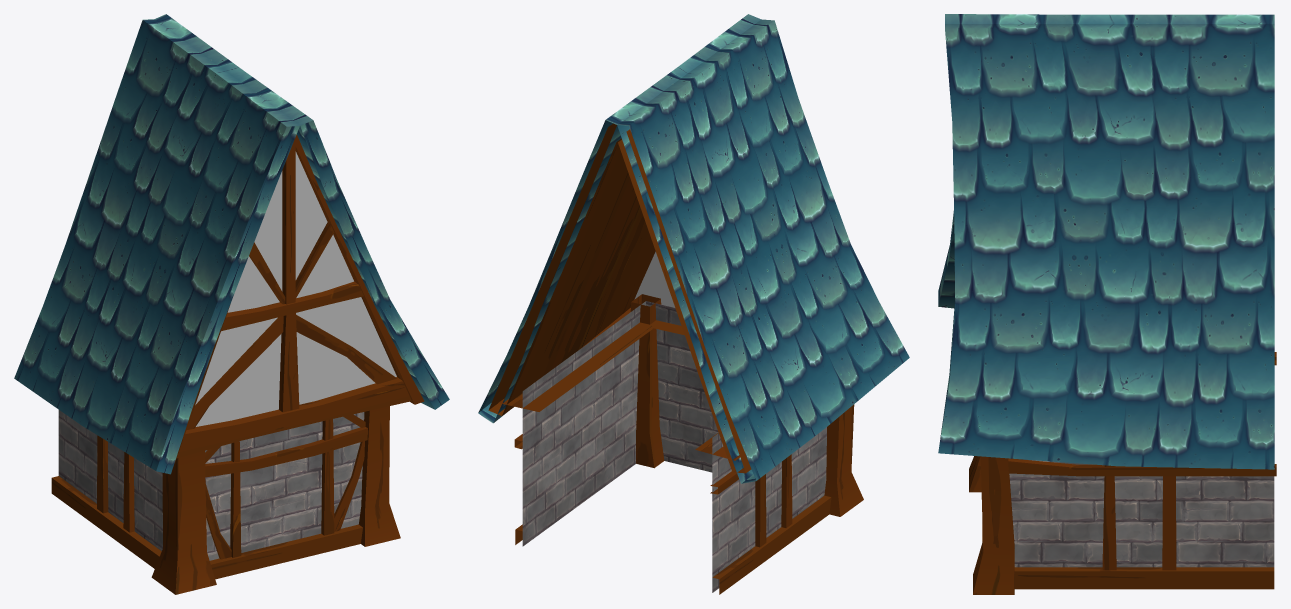
File: SM_BLD_body_add_v03_01.fbx
The picture shows the model from 3 angles, left to right: view 1: azimuth 30°, elevation 25°; view 2: azimuth 150°, elevation 25°; view 3: azimuth 270°, elevation 25°; orthographic projection. The views are drawn at different scales.
Parts seen in each view (by area): view 1: SM_BLD_body_add_v03_01; view 2: SM_BLD_body_add_v03_01; view 3: SM_BLD_body_add_v03_01.
Boxes of the visible parts, box(x1,y1,x2,y2) form: SM_BLD_body_add_v03_01: box(14, 14, 449, 594); SM_BLD_body_add_v03_01: box(478, 14, 909, 594); SM_BLD_body_add_v03_01: box(938, 14, 1276, 594).
Size of the model in its own units: 734 by 1078 by 647.
